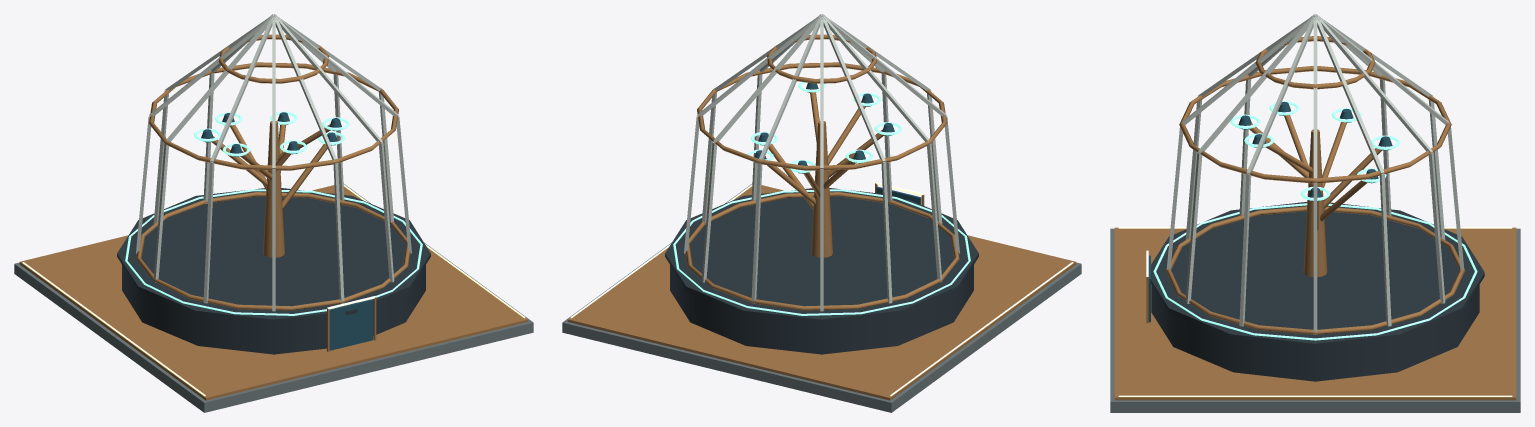
The model's file is knowledge-atrium.lod2.glb.
The picture shows the model from 3 angles, left to right: view 1: azimuth 30°, elevation 25°; view 2: azimuth 150°, elevation 25°; view 3: azimuth 270°, elevation 25°; orthographic projection. The views are drawn at different scales.
Visible parts, largest first — view 1: structure; view 2: structure; view 3: structure.
Part boxes in pixels (bbox=[...]): structure: bbox=[14, 14, 533, 412]; structure: bbox=[562, 14, 1081, 412]; structure: bbox=[1110, 14, 1520, 412].
Bounding box in the file's own units: 24 × 20.08 × 24.
